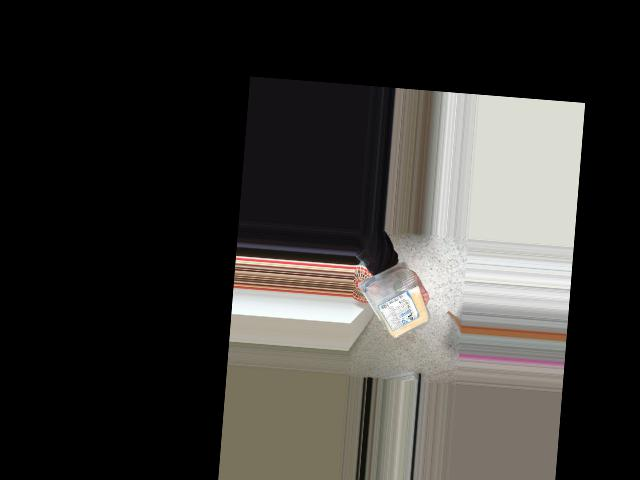cheese: (360, 268, 423, 342)
